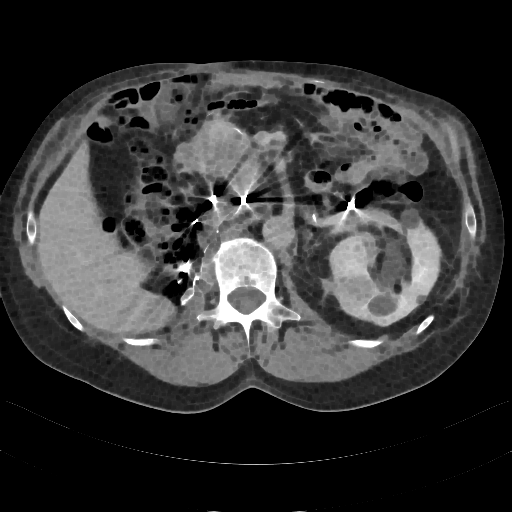Lesion: (331, 271, 374, 304)
